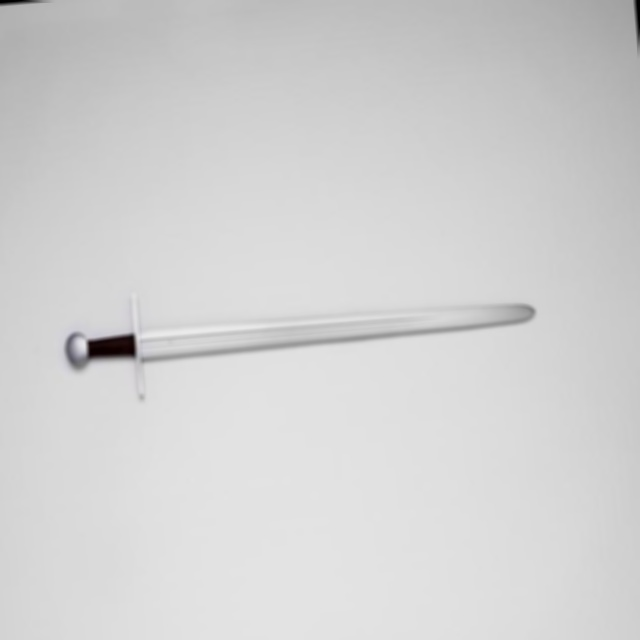Sharp-Object: (54, 283, 541, 382)
